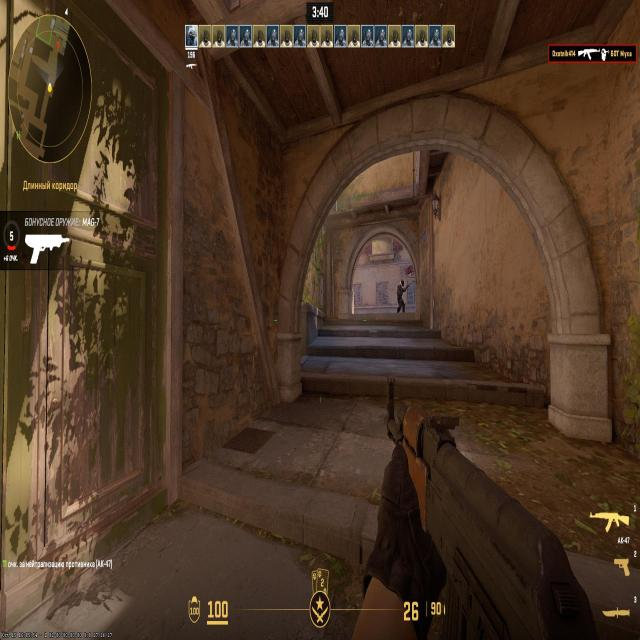CT: (400, 280, 404, 309)
CT_heat: (400, 284, 402, 290)
